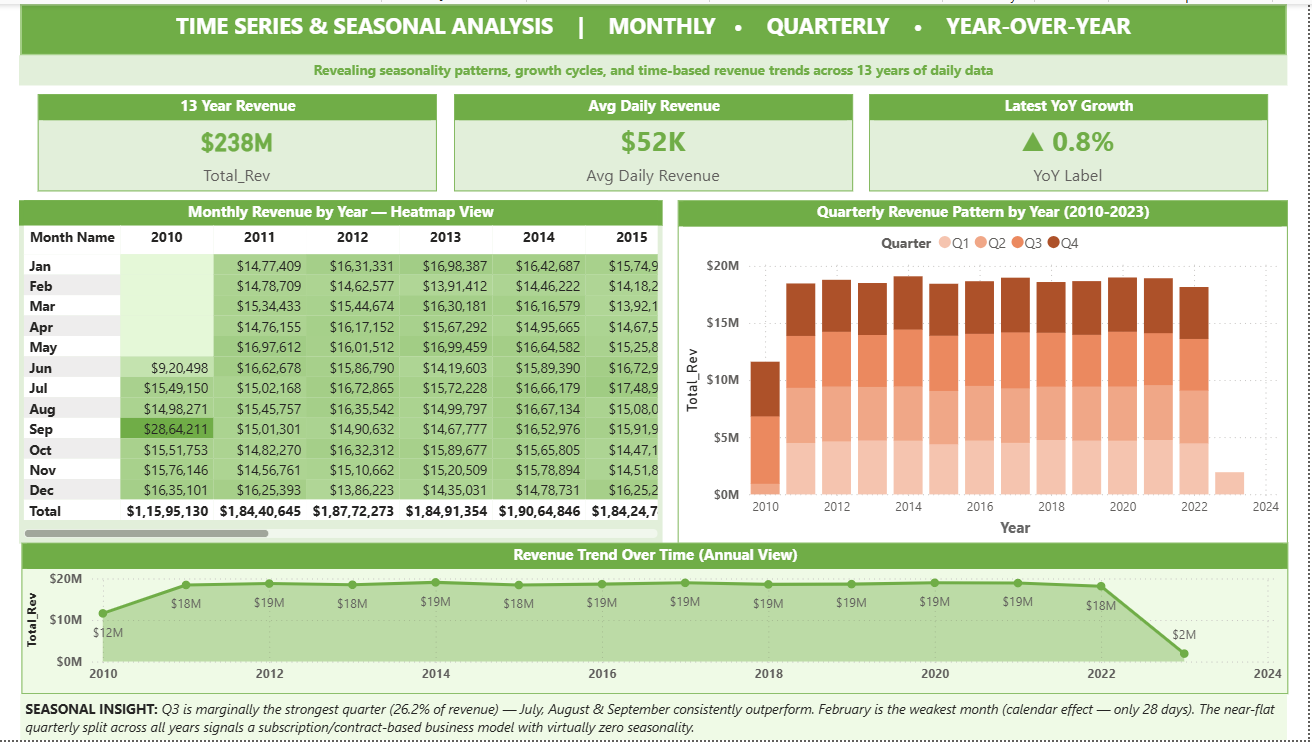

This screenshot's page, from the dashboard's own definition file:
{"tool":"powerbi","page":{"name":"Time Trends","canvas":[1280,720],"ordinal":2},"visuals":[{"type":"textbox","box":[20.2,0,1239.3,50],"z":0},{"type":"textbox","box":[19.6,50.1,1241.2,29.3],"z":1000},{"type":"card","title":"13 Year Revenue","fields":{"Values":["SALESDATA.Total_Rev"]},"box":[37.9,88,390.1,95.4],"z":2000},{"type":"card","title":"Avg Daily Revenue","fields":{"Values":["SALESDATA.Avg Daily Revenue"]},"box":[445.1,88,390.1,95.4],"z":3000},{"type":"card","title":"Latest YoY Growth","fields":{"Values":["SALESDATA.YoY Label"]},"box":[851.1,88,390.1,95.4],"z":4000},{"type":"pivotTable","title":"Monthly Revenue by Year — Heatmap View","fields":{"Rows":["DateTable.Month Name"],"Columns":["DateTable.Year"],"Values":["SALESDATA.Total_Rev"]},"box":[19,191.7,629.8,335.7],"z":5000},{"type":"columnChart","title":"Quarterly Revenue Pattern by Year (2010-2023)","fields":{"Category":["DateTable.Year"],"Y":["SALESDATA.Total_Rev"],"Series":["DateTable.Quarter"]},"box":[664.3,191.7,596.4,335.7],"z":6000},{"type":"lineChart","title":"Revenue Trend Over Time (Annual View)","fields":{"Category":["DateTable.Year"],"Y":["SALESDATA.Total_Rev"]},"box":[21.4,527.4,1239.3,147.6],"z":7000},{"type":"textbox","box":[20.2,675,1239.3,45.2],"z":8000}]}

Visuals, with their boxes in screenshot pixels (x1, y1, x2, y2), scaled from the page's 1280x720 canvas onto the 1312x744 screenshot:
textbox: 21:0:1291:52
textbox: 20:52:1292:82
"13 Year Revenue" card: 39:91:439:190
"Avg Daily Revenue" card: 456:91:856:190
"Latest YoY Growth" card: 872:91:1272:190
"Monthly Revenue by Year — Heatmap View" pivotTable: 19:198:665:545
"Quarterly Revenue Pattern by Year (2010-2023)" columnChart: 681:198:1292:545
"Revenue Trend Over Time (Annual View)" lineChart: 22:545:1292:698
textbox: 21:698:1291:743
